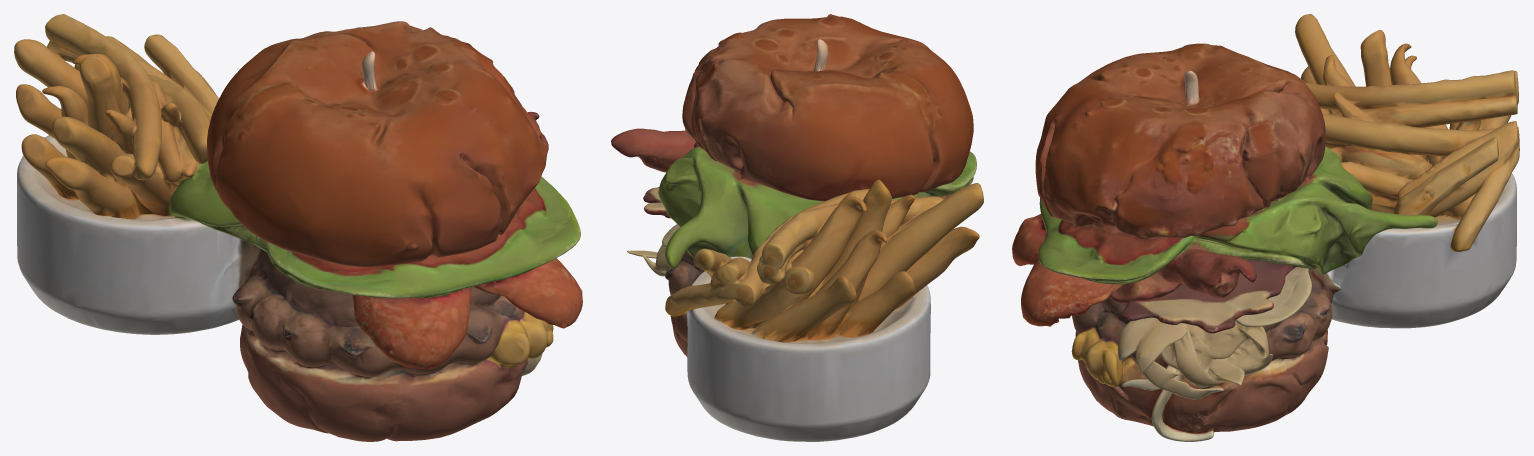
File: melody-burger.glb
The picture shows the model from 3 angles, left to right: view 1: azimuth 30°, elevation 25°; view 2: azimuth 150°, elevation 25°; view 3: azimuth 270°, elevation 25°; orthographic projection. The views are drawn at different scales.
Parts seen in each view (by area): view 1: tripo_node_3b7c3b1b-da98-4558-8b93-78f36b92729a; view 2: tripo_node_3b7c3b1b-da98-4558-8b93-78f36b92729a; view 3: tripo_node_3b7c3b1b-da98-4558-8b93-78f36b92729a.
Boxes of the visible parts, left/top/right/bottom form: tripo_node_3b7c3b1b-da98-4558-8b93-78f36b92729a: left=14, top=14, right=582, bottom=441; tripo_node_3b7c3b1b-da98-4558-8b93-78f36b92729a: left=611, top=14, right=983, bottom=441; tripo_node_3b7c3b1b-da98-4558-8b93-78f36b92729a: left=1012, top=14, right=1519, bottom=441.
Size of the model in its own units: 0.8925 by 0.667 by 0.9786.
Materials: 1 (1 with a texture image).
